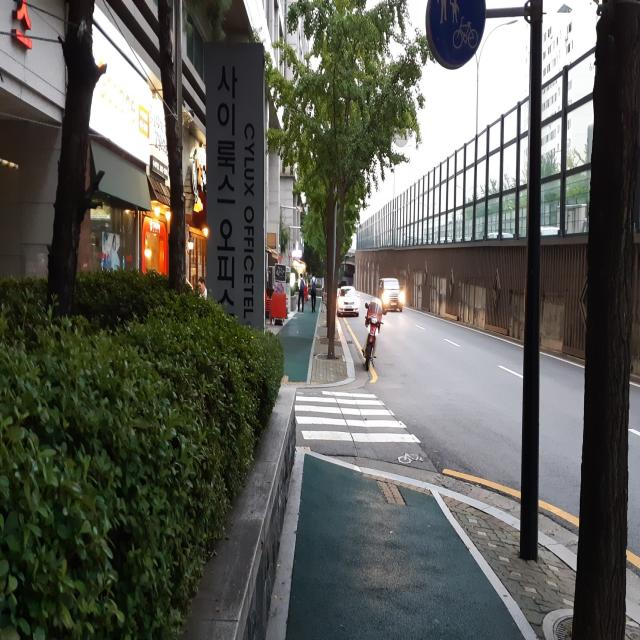횡단보도: (294, 390, 422, 442)
